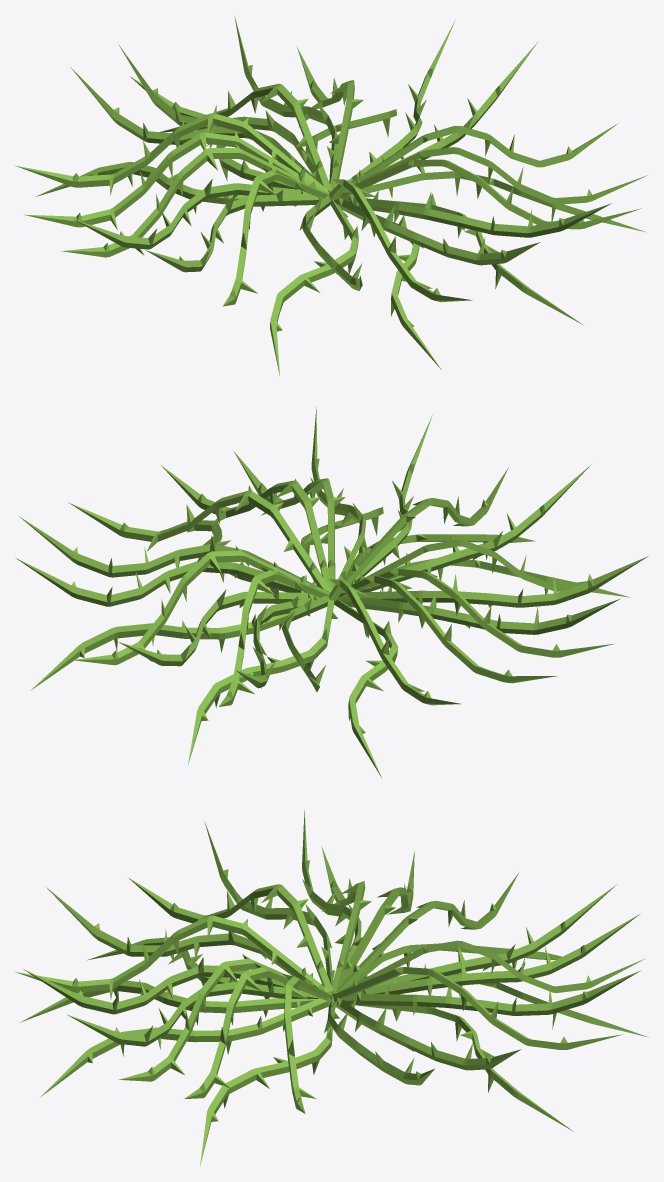
File: Thorn.fbx
The picture shows the model from 3 angles, top to bottom: view 1: azimuth 30°, elevation 25°; view 2: azimuth 150°, elevation 25°; view 3: azimuth 270°, elevation 25°; orthographic projection.
Parts seen in each view (by area): view 1: Thorn; view 2: Thorn; view 3: Thorn.
Boxes of the visible parts, x1=… form: Thorn: x1=15, y1=15, x2=647, y2=375; Thorn: x1=16, y1=406, x2=648, y2=777; Thorn: x1=15, y1=810, x2=648, y2=1166.
Size of the model in its own units: 806 by 156 by 806.
